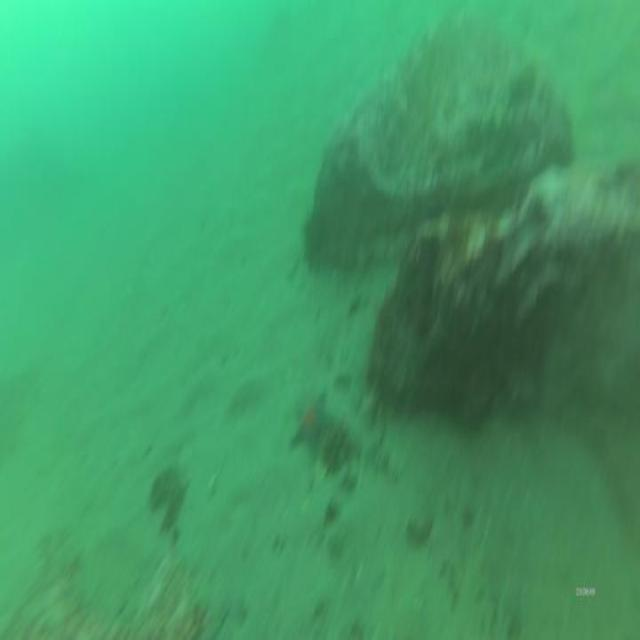starfish: (289, 384, 336, 469)
